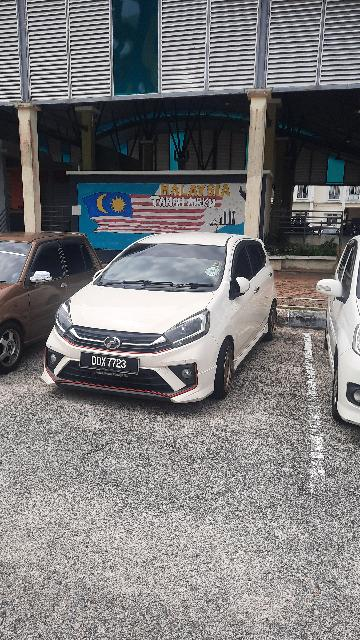License_Plate: (77, 350, 145, 378)
car: (35, 229, 283, 407)
